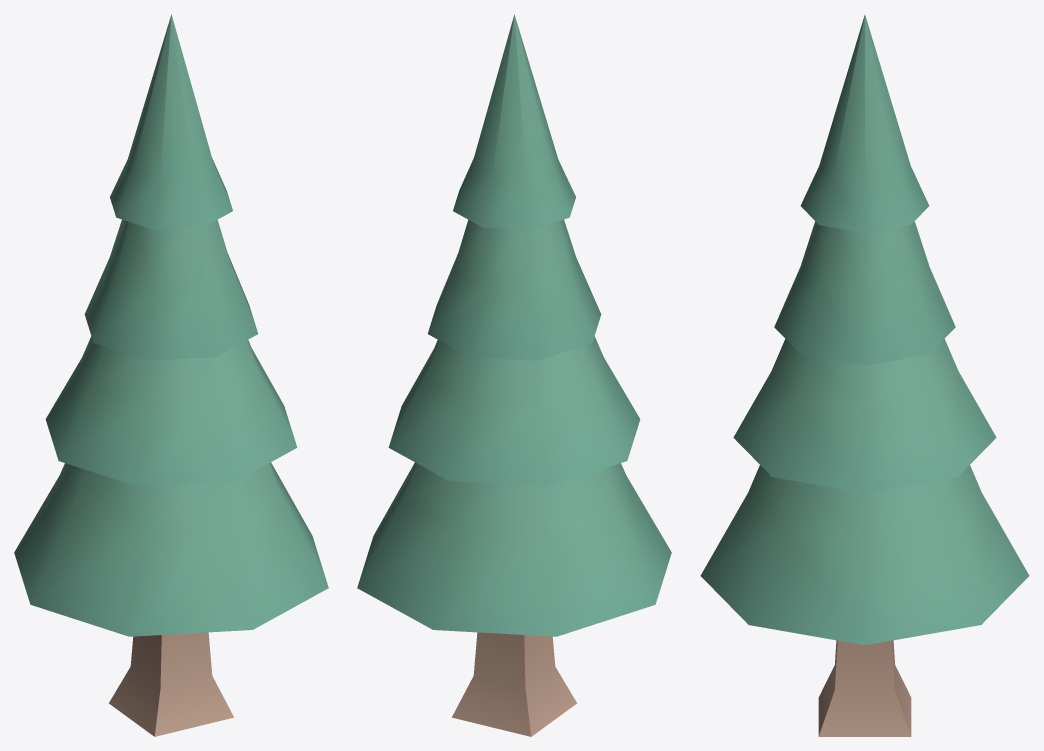
File: tree.glb
3 views of the same model, side by side, from view 1: azimuth 30°, elevation 25°; view 2: azimuth 150°, elevation 25°; view 3: azimuth 270°, elevation 25° (orthographic).
Visible parts, largest first — view 1: tree; view 2: tree; view 3: tree.
Boxes of the visible parts, x1,y1,x2,y2 form: tree: (14,14,328,736); tree: (357,14,671,736); tree: (700,15,1029,736).
Size of the model in its own units: 1.02 by 2.41 by 1.02.
